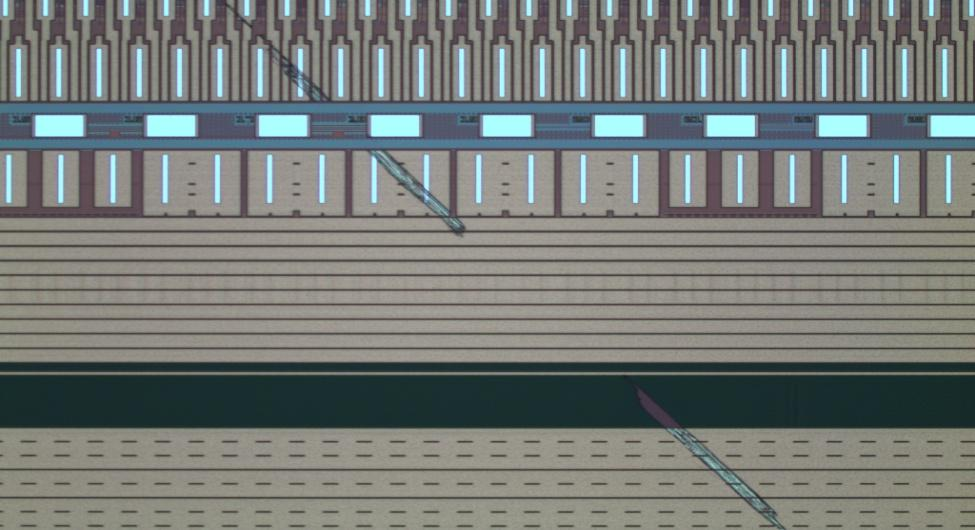SCRATCH: (212, 1, 791, 530)
